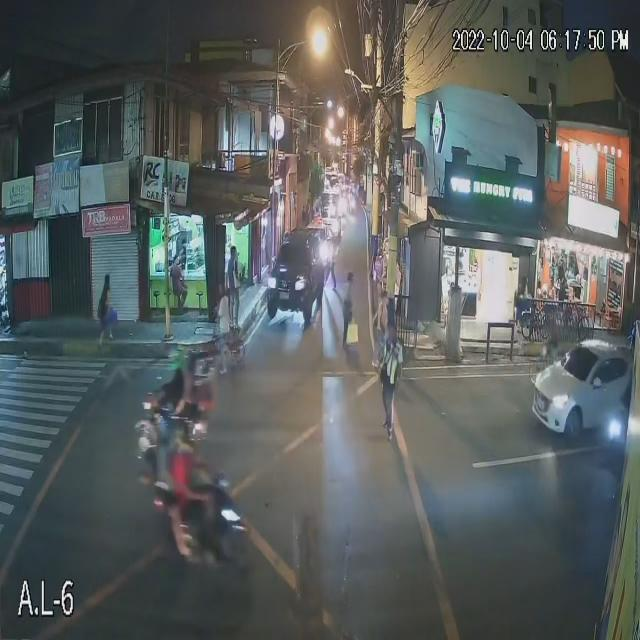helmet: (170, 349, 188, 366)
motorcycle: (151, 491, 231, 565), (132, 404, 209, 464)
rider: (168, 467, 204, 561), (157, 375, 193, 455)
